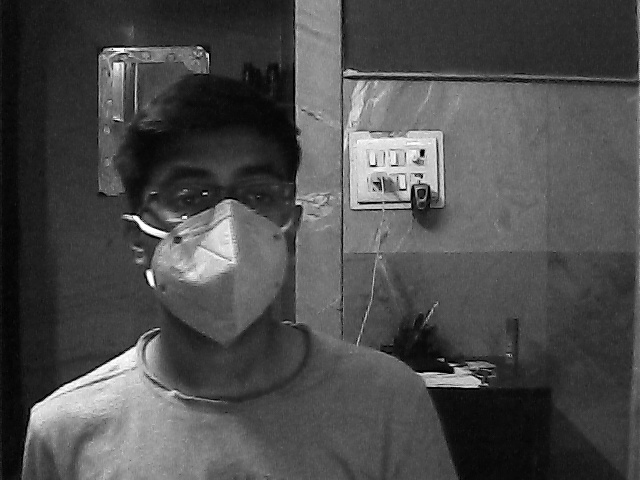mask: (136, 151, 305, 348)
